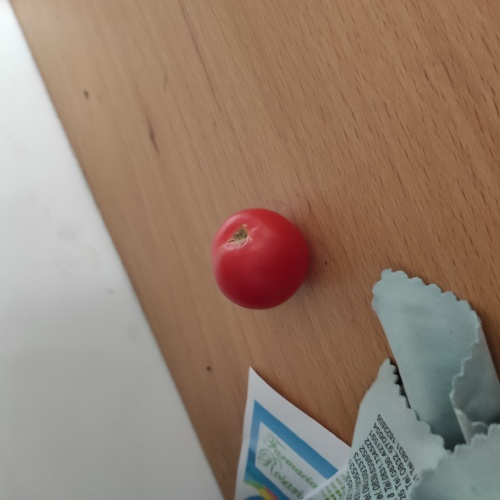pomodoro: (202, 202, 322, 317)
